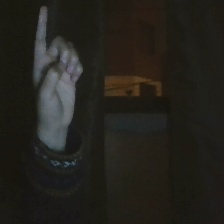D: (28, 4, 91, 129)
